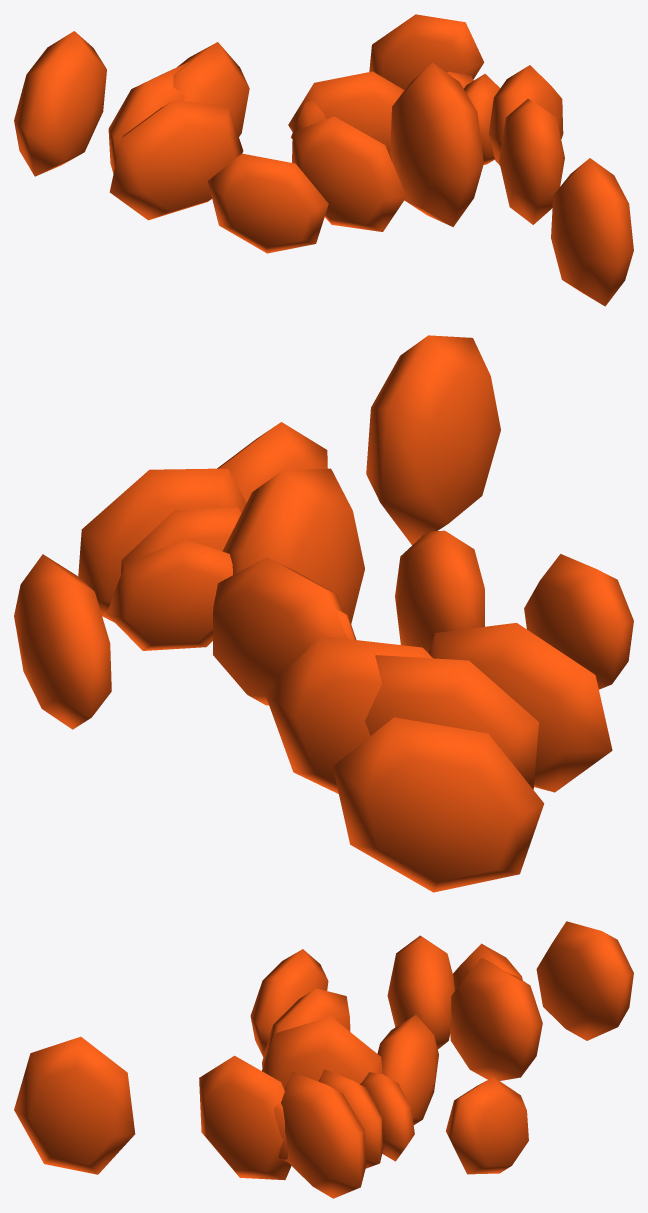
Rendered from campfire_embers.obj.
The picture shows the model from 3 angles, top to bottom: view 1: azimuth 30°, elevation 25°; view 2: azimuth 150°, elevation 25°; view 3: azimuth 270°, elevation 25°; orthographic projection. The views are drawn at different scales.
Parts seen in each view (by area): view 1: part9, part0, part13, part6, part3, part11, part4, part14, part5, part1, part10, part12 (+2 smaller); view 2: part13, part6, part0, part1, part9, part14, part5, part12, part8, part10, part11, part3 (+2 smaller); view 3: part6, part1, part13, part4, part10, part14, part9, part0, part5, part11, part8, part2 (+3 smaller).
Boxes of the visible parts, x1,y1,x2,y2 form: part9: [390, 62, 483, 226]; part0: [109, 100, 243, 220]; part13: [14, 31, 106, 176]; part6: [551, 158, 633, 306]; part3: [292, 116, 406, 231]; part11: [207, 153, 328, 253]; part4: [499, 99, 564, 224]; part14: [369, 14, 484, 89]; part5: [288, 71, 404, 160]; part1: [173, 42, 249, 136]; part10: [488, 65, 563, 165]; part12: [108, 62, 188, 173]; part13: [333, 717, 544, 892]; part6: [366, 335, 500, 545]; part0: [428, 623, 612, 792]; part1: [264, 636, 432, 793]; part9: [222, 468, 364, 623]; part14: [14, 554, 111, 729]; part5: [213, 557, 347, 705]; part12: [365, 655, 538, 789]; part8: [106, 539, 232, 650]; part10: [78, 468, 246, 622]; part11: [524, 554, 633, 689]; part3: [395, 530, 484, 652]; part6: [14, 1036, 135, 1174]; part1: [450, 957, 542, 1080]; part13: [536, 921, 633, 1040]; part4: [199, 1055, 291, 1180]; part10: [281, 1071, 366, 1198]; part14: [446, 1077, 528, 1174]; part9: [262, 1016, 382, 1089]; part0: [387, 935, 454, 1049]; part5: [377, 1015, 438, 1124]; part11: [250, 949, 328, 1056]; part8: [360, 1072, 414, 1161]; part2: [319, 1069, 383, 1168].
Bounding box in the file's own units: 0.4329 × 0.1534 × 0.5661.
